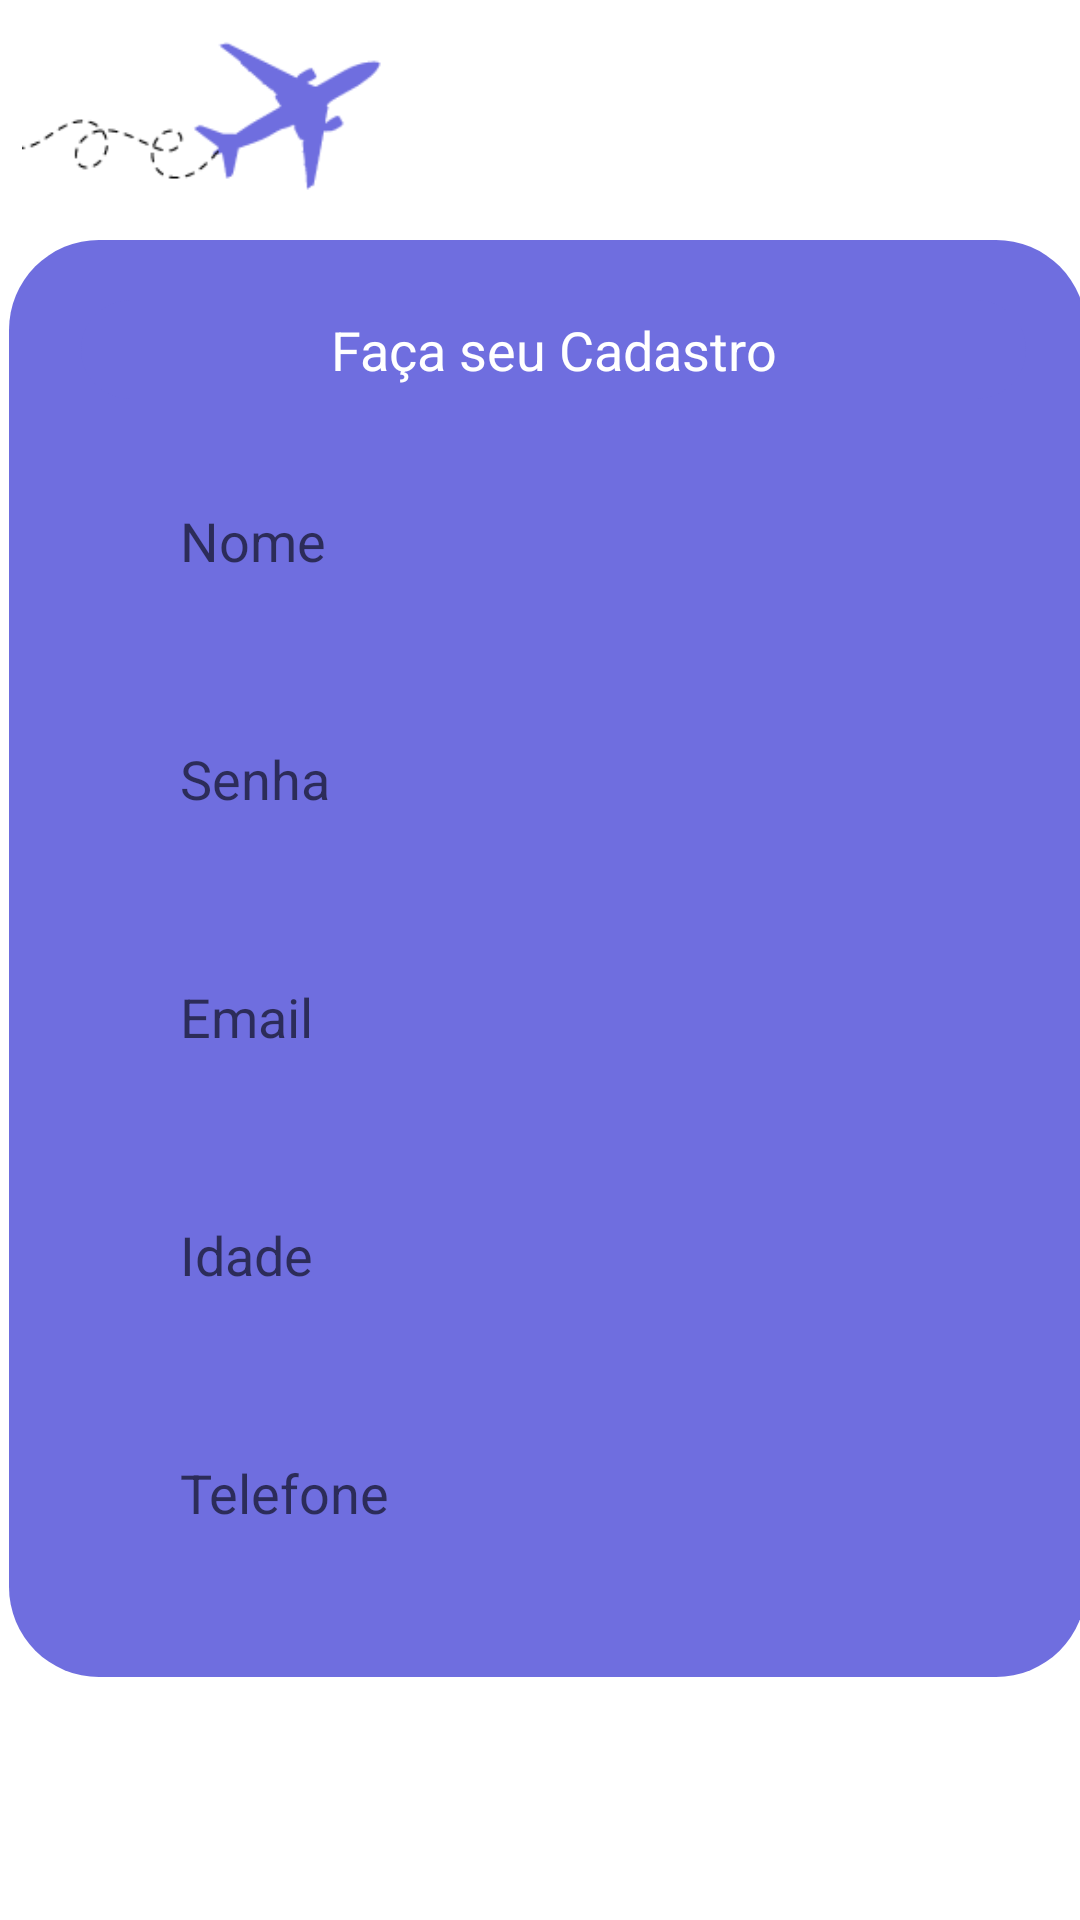

Point at icon controls on the screen. Image size 1080px x 1920px, points as [x,y].
aviao: [201,116]
